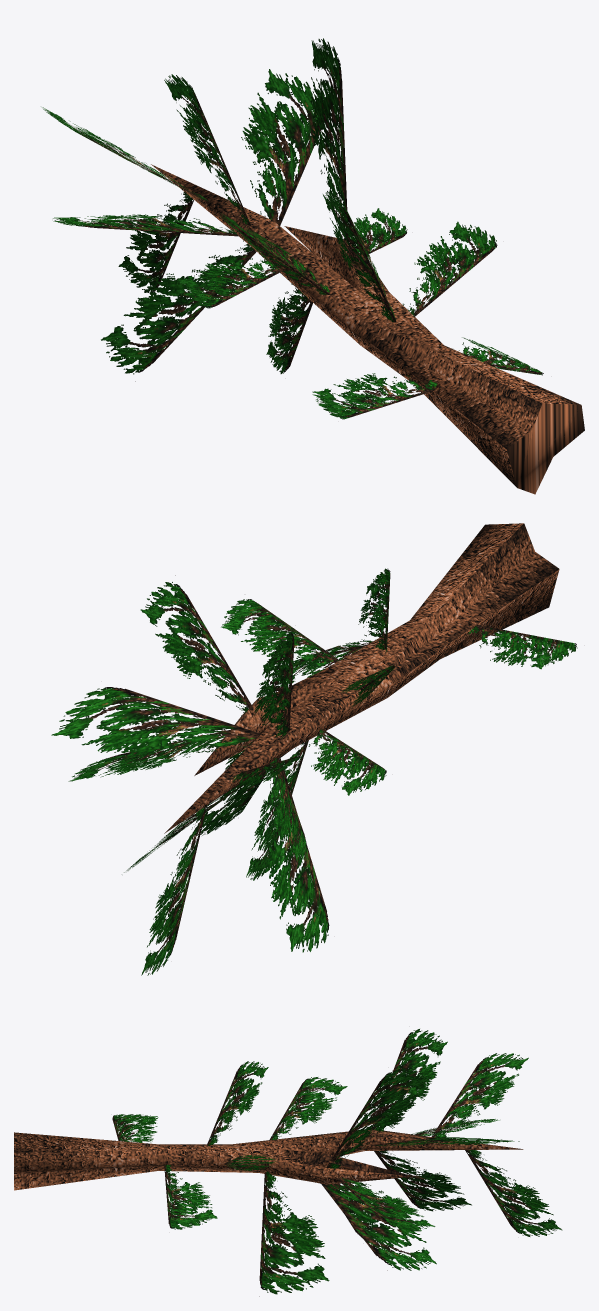
The model's file is Tree2.fbx.
3 views of the same model, one above another, from view 1: azimuth 30°, elevation 25°; view 2: azimuth 150°, elevation 25°; view 3: azimuth 270°, elevation 25° (orthographic). The views are drawn at different scales.
Parts seen in each view (by area): view 1: Plane; view 2: Plane; view 3: Plane.
Part boxes in pixels (x1,y1,x2,y2): Plane: (42, 38, 584, 494); Plane: (51, 523, 577, 975); Plane: (14, 1029, 562, 1296).
Size of the model in its own units: 4.26 by 4.33 by 10.27.
